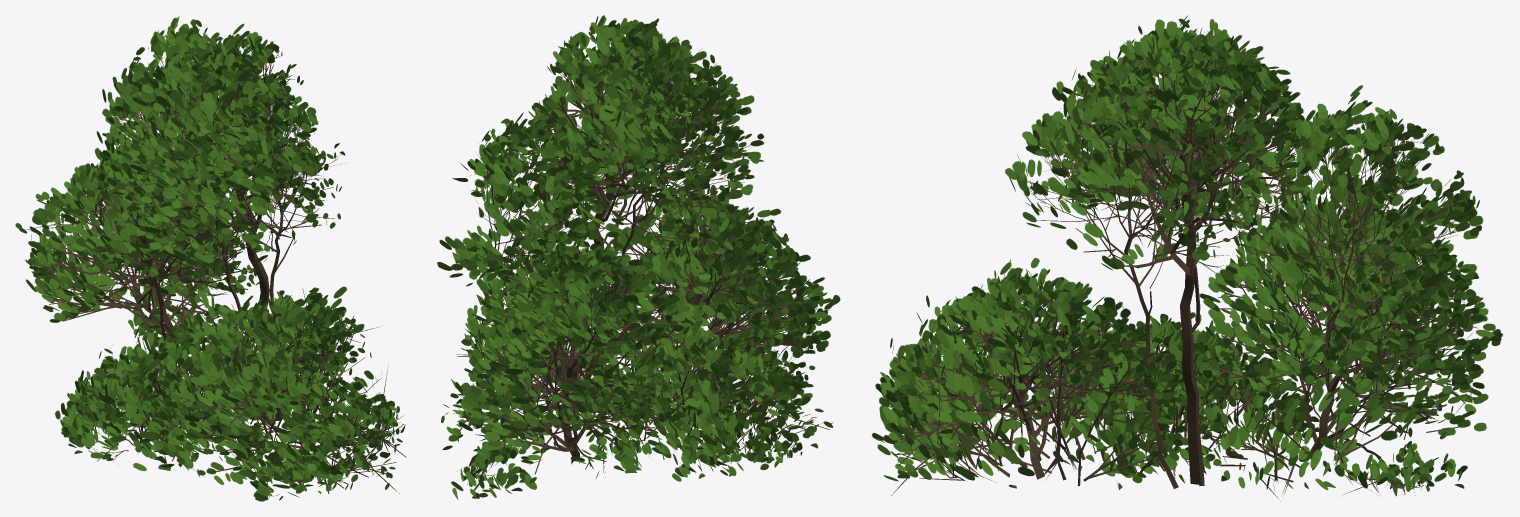
The picture shows the model from 3 angles, left to right: view 1: azimuth 30°, elevation 25°; view 2: azimuth 150°, elevation 25°; view 3: azimuth 270°, elevation 25°; orthographic projection. The views are drawn at different scales.
Parts seen in each view (by area): view 1: oak 01.001_trunk_Mat.001_0.215; view 2: oak 01.001_trunk_Mat.001_0.215; view 3: oak 01.001_trunk_Mat.001_0.215.
Part boxes in pixels (x1,y1,x2,y2): oak 01.001_trunk_Mat.001_0.215: (15, 16, 406, 501); oak 01.001_trunk_Mat.001_0.215: (437, 15, 840, 499); oak 01.001_trunk_Mat.001_0.215: (872, 15, 1503, 501).
Size of the model in its own units: 3.37 by 5.04 by 6.3.
Materials: 2 (1 with a texture image).
